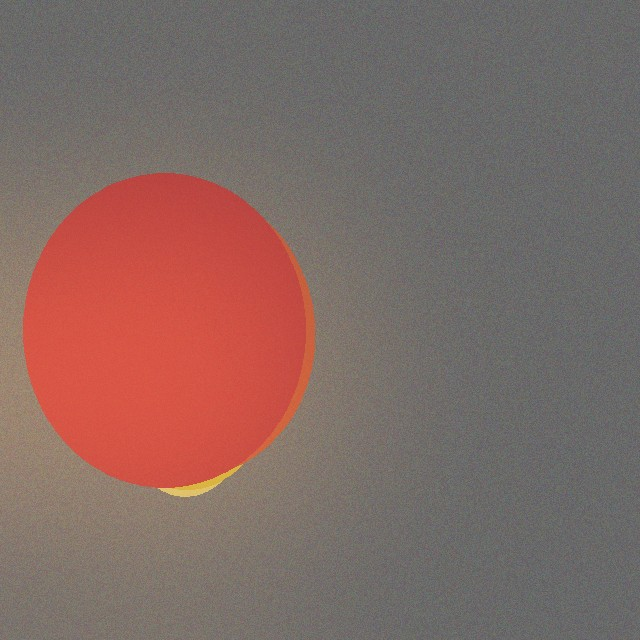fire: (39, 253, 275, 507)
